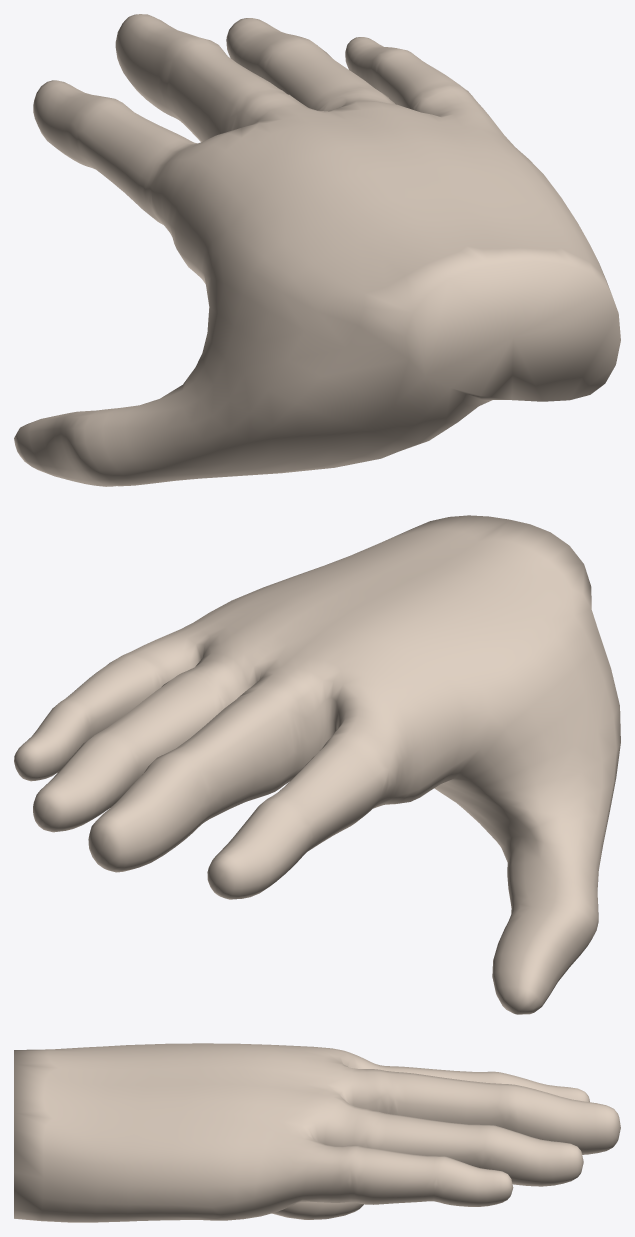
Rendered from 오른손_수정.glb.
The picture shows the model from 3 angles, top to bottom: view 1: azimuth 30°, elevation 25°; view 2: azimuth 150°, elevation 25°; view 3: azimuth 270°, elevation 25°; orthographic projection. The views are drawn at different scales.
Visible parts, largest first — view 1: best_highpoly_hand; view 2: best_highpoly_hand; view 3: best_highpoly_hand.
Boxes of the visible parts, x1,y1,x2,y2 form: best_highpoly_hand: (14,14,620,486); best_highpoly_hand: (14,515,620,1014); best_highpoly_hand: (14,1043,620,1222).
Bounding box in the file's own units: 0.9948 × 0.6467 × 1.48.
